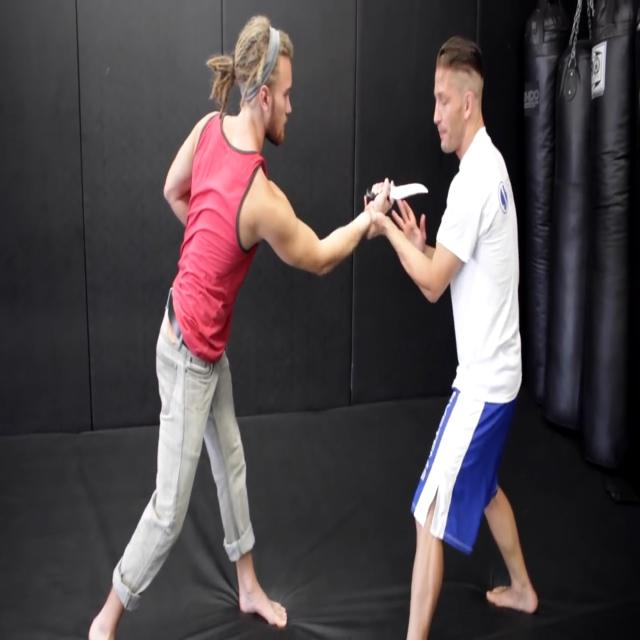knife: (370, 177, 432, 209)
